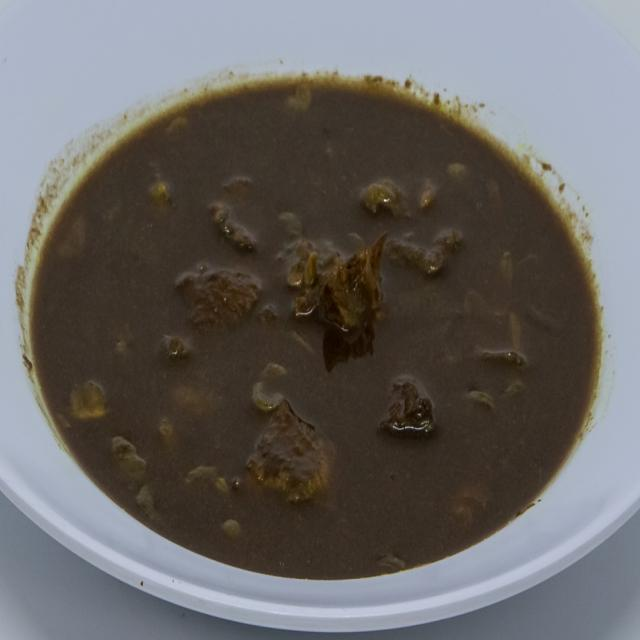Rawon-Surabaya: (26, 57, 611, 593)
